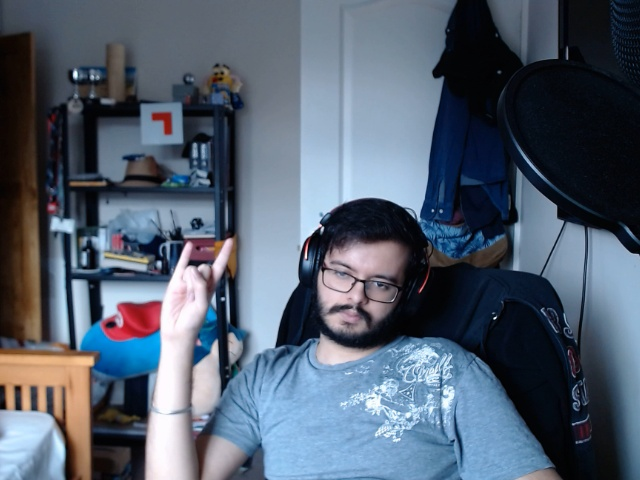Rock on: (152, 228, 238, 346)
